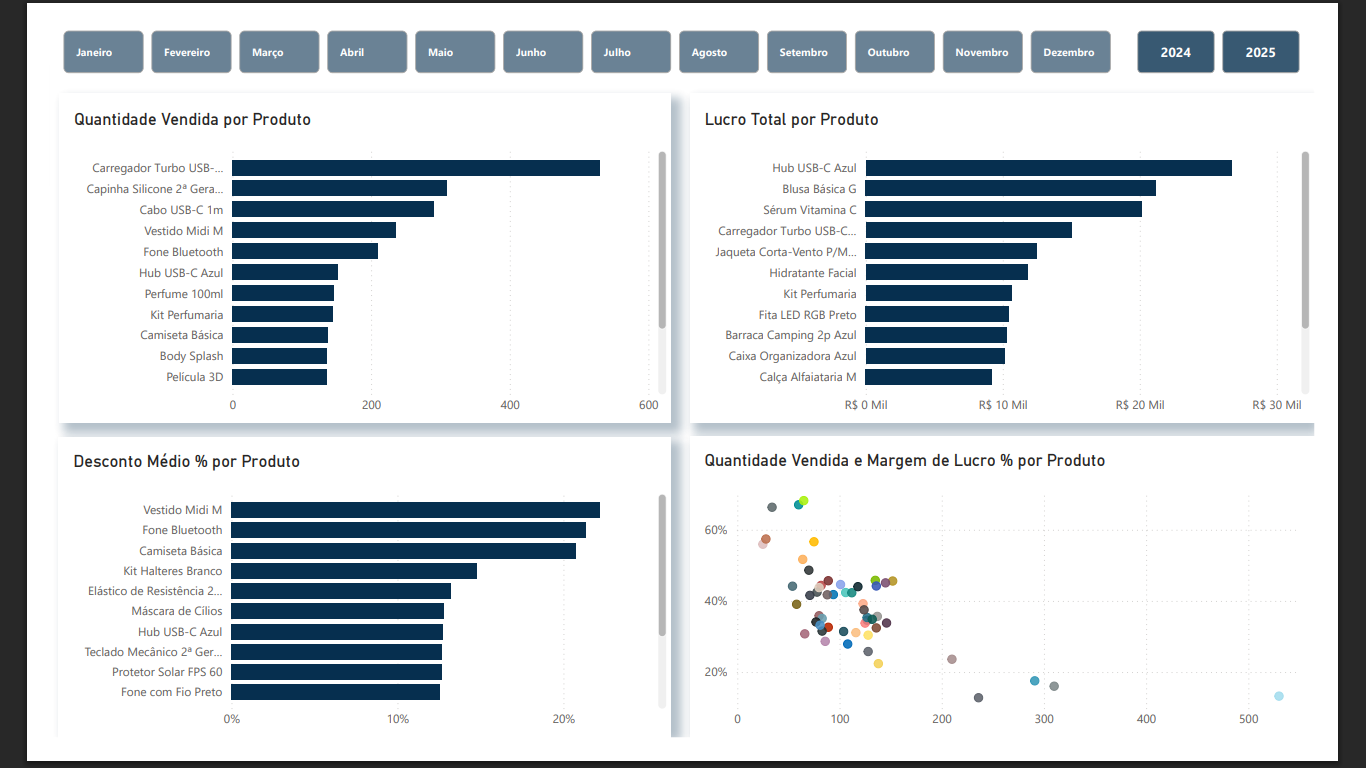

Layout of this report page (visuals, bound fields, positions):
{"tool":"powerbi","page":{"name":"Produtos","canvas":[1280,720],"ordinal":2},"visuals":[{"type":"barChart","title":"Quantidade Vendida por Produto","fields":{"Category":["dim_produtos.nome_produto"],"Y":["_Medidas.Quantidade Vendida"]},"box":[10.2,68.8,619,333.7],"z":0},{"type":"barChart","title":"Lucro Total por Produto","fields":{"Category":["dim_produtos.nome_produto"],"Y":["_Medidas.Lucro Total"]},"box":[647.7,69,632.3,333.4],"z":1000},{"type":"barChart","title":"Desconto Médio % por Produto","fields":{"Category":["dim_produtos.nome_produto"],"Y":["_Medidas.Desconto Médio %"]},"box":[8.8,415.6,620.5,304.4],"z":2000},{"type":"scatterChart","title":"Quantidade Vendida e Margem de Lucro % por Produto","fields":{"X":["_Medidas.Quantidade Vendida"],"Y":["_Medidas.Margem % Produto"],"Category":["dim_produtos.nome_produto"]},"box":[648.5,415.4,631.5,304.5],"z":3000},{"type":"advancedSlicerVisual","fields":{"Values":["dim_calendario.ano"]},"box":[1096.1,0,174.1,52.7],"z":4000},{"type":"advancedSlicerVisual","fields":{"Values":["dim_calendario.mes_nome"]},"box":[8.8,0,1078.5,52.7],"z":5000}]}

Visuals, with their boxes in screenshot pixels (x1, y1, x2, y2), scaled from the page's 1280x720 canvas onto the 1366x768 screenshot:
"Quantidade Vendida por Produto" barChart: (x1=11, y1=73, x2=671, y2=429)
"Lucro Total por Produto" barChart: (x1=691, y1=74, x2=1365, y2=429)
"Desconto Médio % por Produto" barChart: (x1=9, y1=443, x2=672, y2=767)
"Quantidade Vendida e Margem de Lucro % por Produto" scatterChart: (x1=692, y1=443, x2=1365, y2=767)
advancedSlicerVisual - dim_calendario.ano: (x1=1170, y1=0, x2=1356, y2=56)
advancedSlicerVisual - dim_calendario.mes_nome: (x1=9, y1=0, x2=1160, y2=56)
